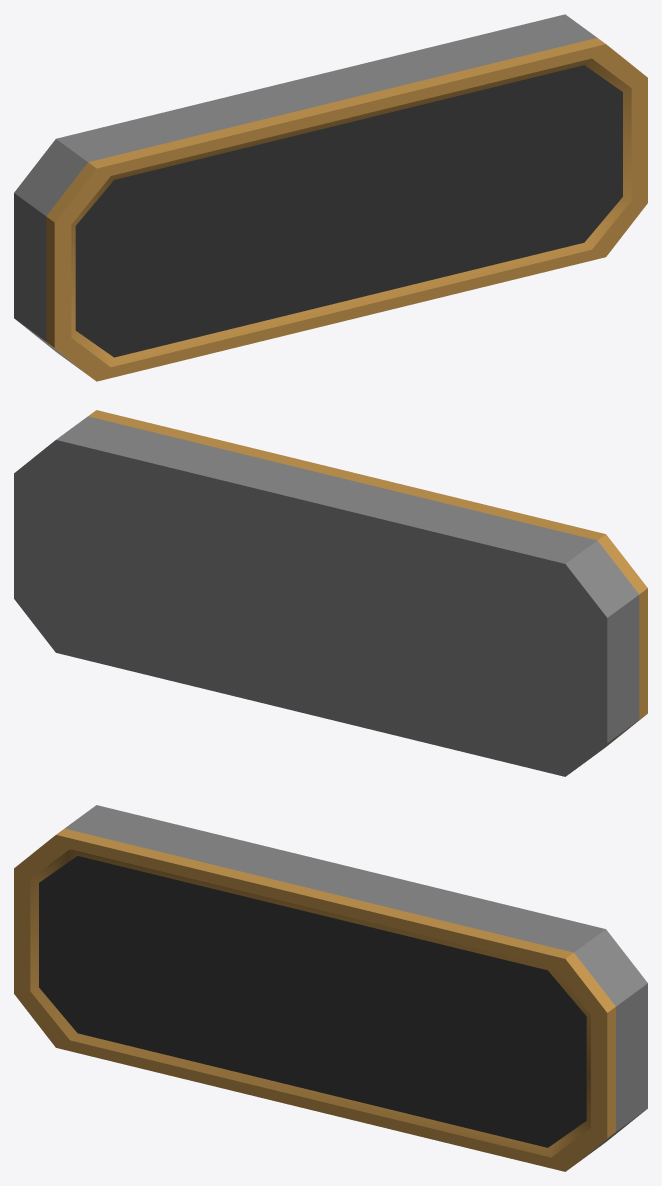
The model's file is screen_wide.glb.
The picture shows the model from 3 angles, top to bottom: view 1: azimuth 30°, elevation 25°; view 2: azimuth 150°, elevation 25°; view 3: azimuth 330°, elevation 25°; orthographic projection.
Visible parts, largest first — view 1: Props_Computer; view 2: Props_Computer; view 3: Props_Computer.
Part boxes in pixels (box(x1,y1,x2,y2)): Props_Computer: box(14, 14, 647, 381); Props_Computer: box(14, 410, 647, 776); Props_Computer: box(14, 805, 647, 1171).
Bounding box in the file's own units: 1.02 × 0.3512 × 0.1224.
